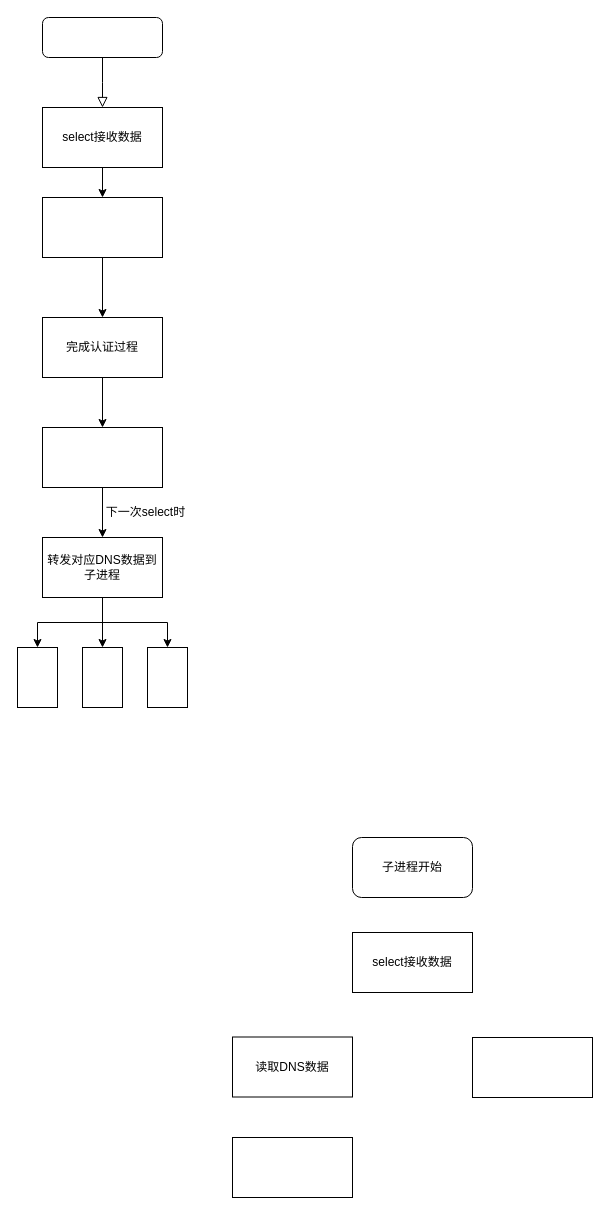
The diagram is 610 pixels wide and 1215 high, and some of its shapes have lost their labels. Each missing label, with the box of its shape:
先从父进程开始: (42, 16, 162, 58)
认证到需要bind_user时，开子进程，记录IP和进程ID: (42, 426, 162, 488)
读DNS数据: (42, 196, 162, 258)
